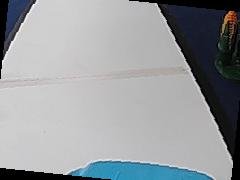corn: (212, 8, 240, 72)
